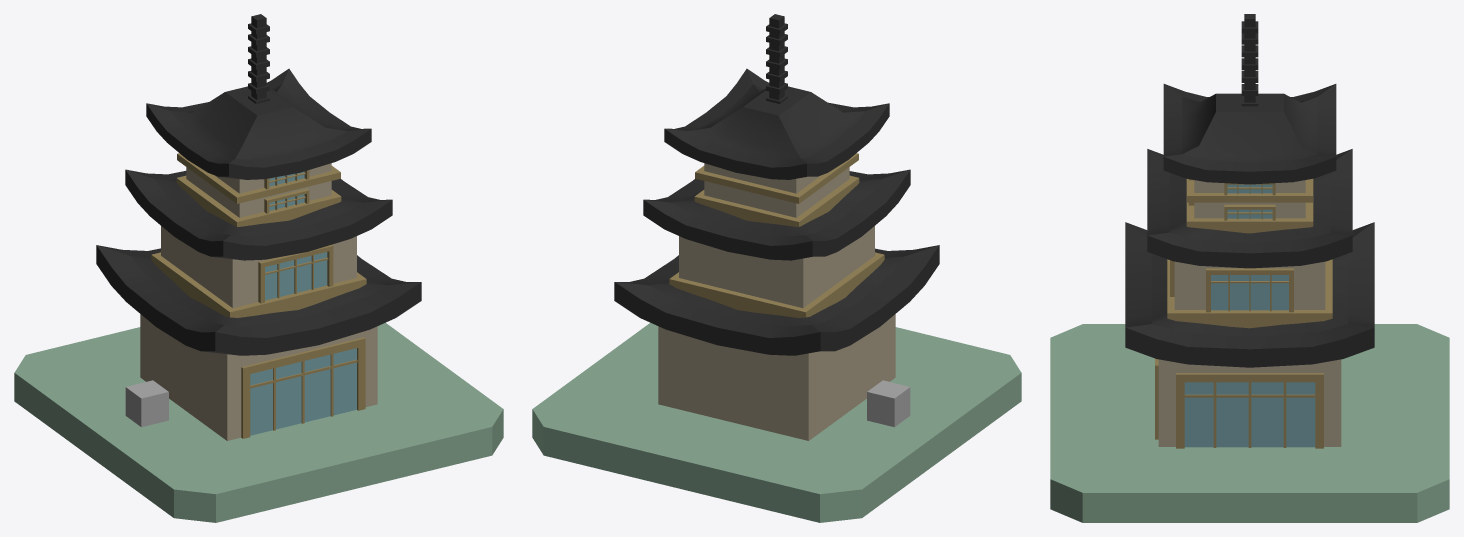
The model's file is SM_pagode.fbx.
3 views of the same model, side by side, from view 1: azimuth 30°, elevation 25°; view 2: azimuth 150°, elevation 25°; view 3: azimuth 270°, elevation 25° (orthographic). The views are drawn at different scales.
Parts seen in each view (by area): view 1: SM_pagode; view 2: SM_pagode; view 3: SM_pagode.
Part boxes in pixels (x1,y1,x2,y2): SM_pagode: (14, 14, 503, 522); SM_pagode: (532, 14, 1021, 522); SM_pagode: (1050, 14, 1449, 522).
Bounding box in the file's own units: 1200 × 1400 × 1200.
